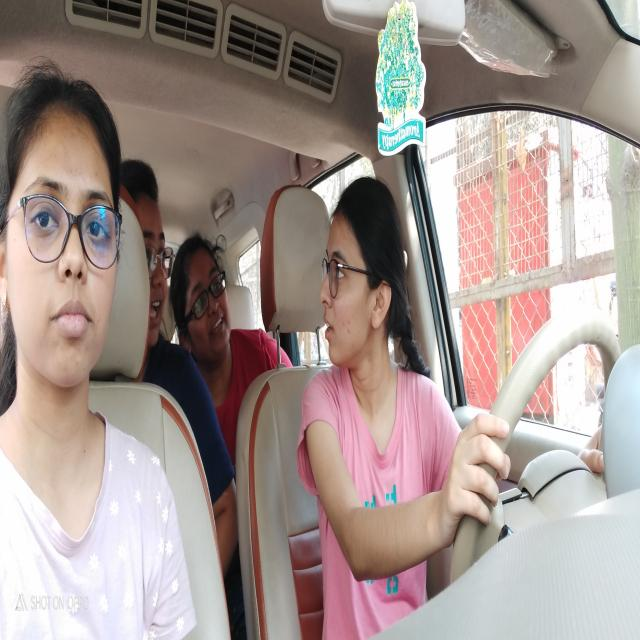LeftRight: (318, 199, 397, 362)
person: (16, 96, 117, 385), (180, 242, 236, 346), (138, 182, 175, 338)
talking: (322, 314, 338, 346)
